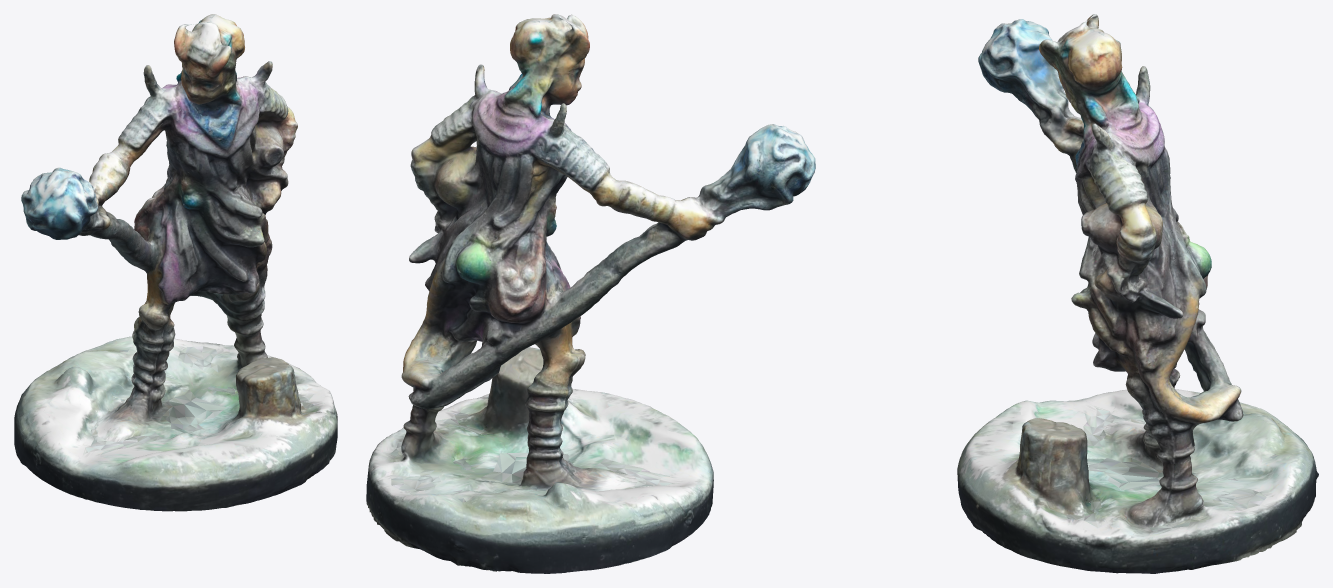
File: Deathwalker.glb
The picture shows the model from 3 angles, left to right: view 1: azimuth 30°, elevation 25°; view 2: azimuth 150°, elevation 25°; view 3: azimuth 270°, elevation 25°; orthographic projection. The views are drawn at different scales.
Parts seen in each view (by area): view 1: deathwalker; view 2: deathwalker; view 3: deathwalker.
Boxes of the visible parts, left/top/right/bottom form: deathwalker: left=14, top=14, right=337, bottom=511; deathwalker: left=366, top=14, right=815, bottom=573; deathwalker: left=957, top=14, right=1318, bottom=573.
Size of the model in its own units: 9.7 by 10.84 by 8.08.
Materials: 1 (1 with a texture image).
